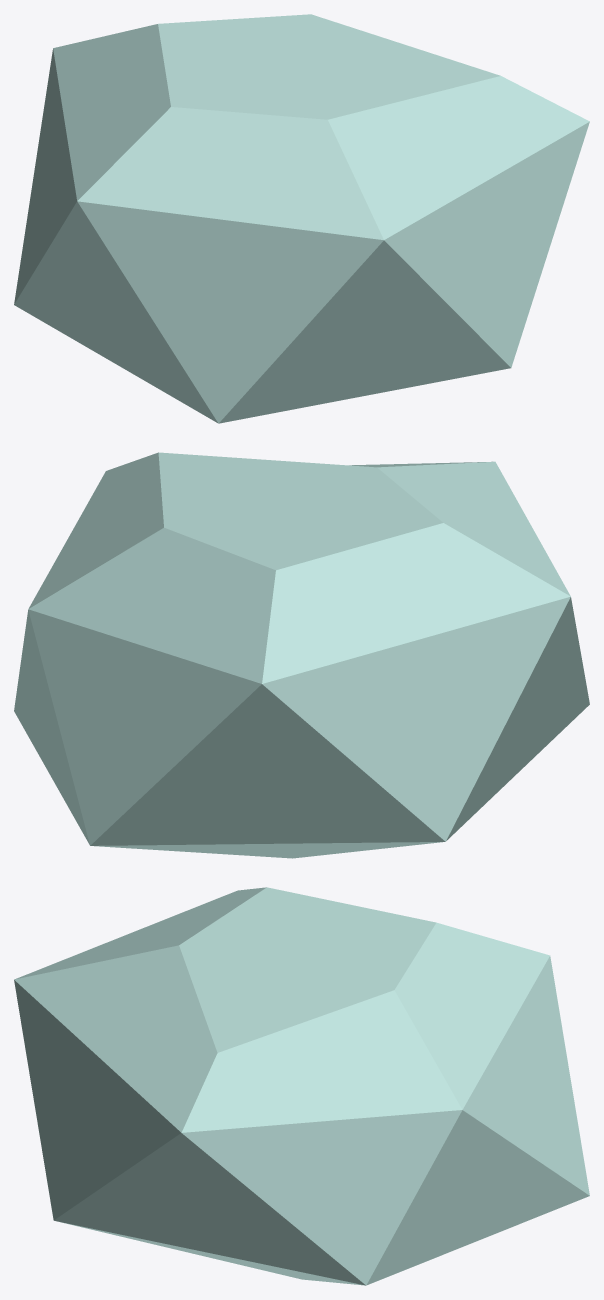
File: SM_Rock_04.fbx
The picture shows the model from 3 angles, top to bottom: view 1: azimuth 30°, elevation 25°; view 2: azimuth 150°, elevation 25°; view 3: azimuth 270°, elevation 25°; orthographic projection. The views are drawn at different scales.
Visible parts, largest first — view 1: Icosphere.022; view 2: Icosphere.022; view 3: Icosphere.022.
Boxes of the visible parts, x1,y1,x2,y2 form: Icosphere.022: (14, 14, 589, 423); Icosphere.022: (14, 452, 589, 858); Icosphere.022: (14, 887, 589, 1285).
Bounding box in the file's own units: 43.45 × 29.7 × 46.73.
